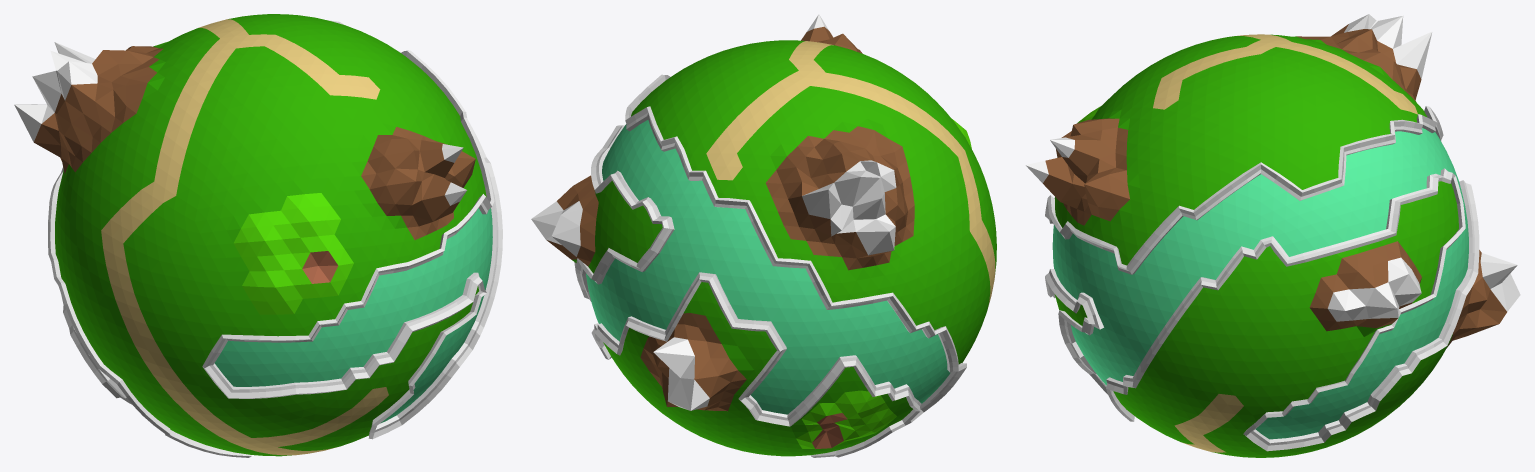
File: Planet1.fbx
3 renders of one model, left to right at view 1: azimuth 30°, elevation 25°; view 2: azimuth 150°, elevation 25°; view 3: azimuth 270°, elevation 25°, orthographic. The views are drawn at different scales.
Visible parts, largest first — view 1: Planet1, Mountain_Sea, Obstacle; view 2: Planet1, Mountain_Sea, Obstacle; view 3: Planet1, Mountain_Sea, Obstacle.
Part boxes in pixels (x1,y1,x2,y2): Planet1: (55,14,486,456); Mountain_Sea: (14,42,492,423); Obstacle: (48,20,502,457); Planet1: (572,40,996,456); Mountain_Sea: (531,14,950,414); Obstacle: (574,74,966,457); Planet1: (1054,34,1458,457); Mountain_Sea: (1025,14,1520,439); Obstacle: (1045,106,1479,451).
Bounding box in the file's own units: 3773 × 3697 × 4278.
